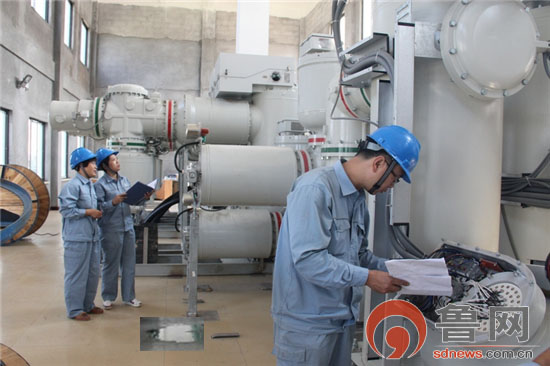oil: (140, 315, 204, 348)
